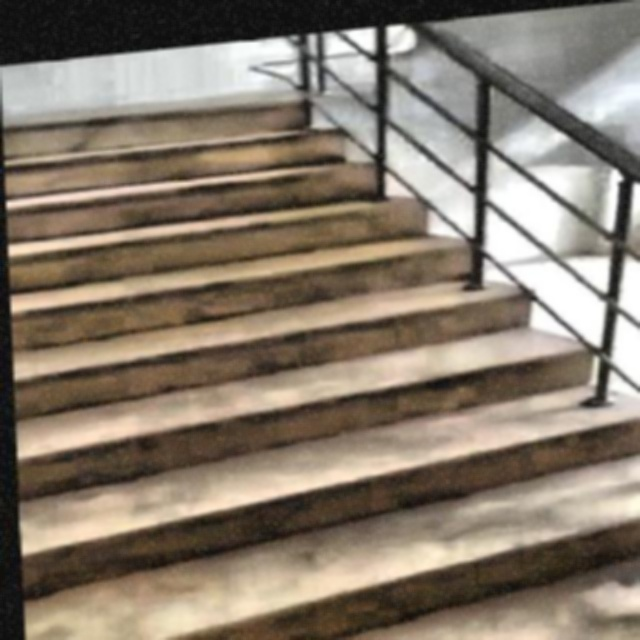stair: (3, 56, 640, 638)
